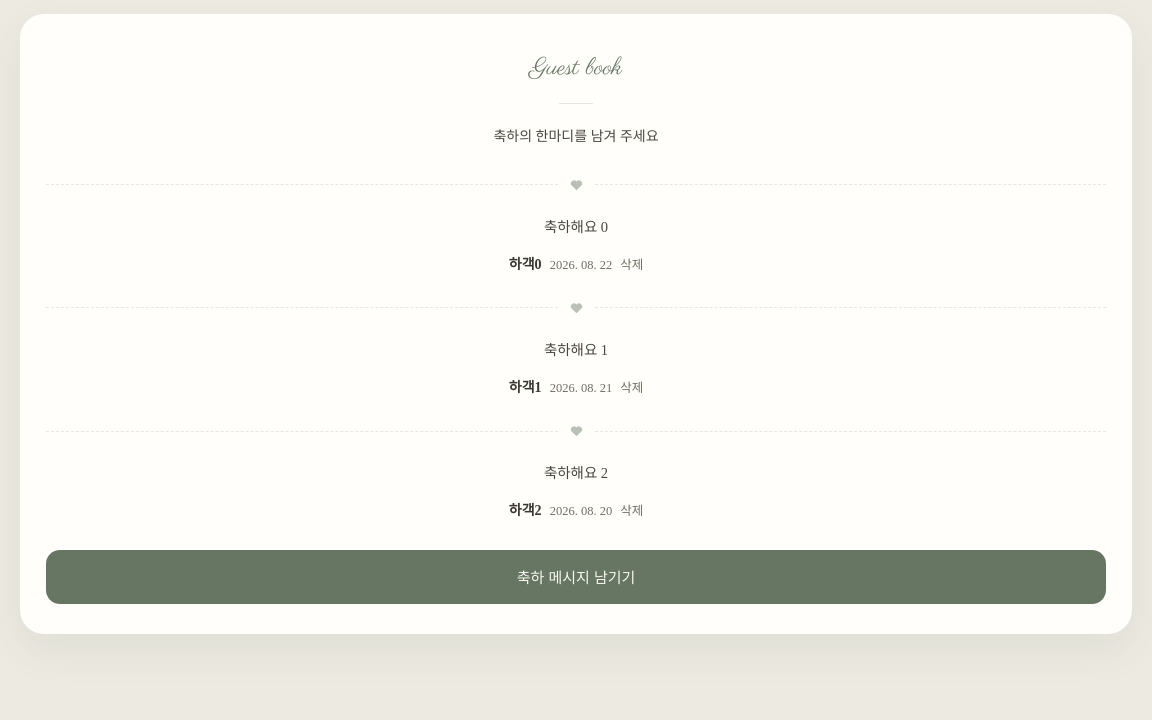
Scenario: Guestbook 삭제 › 비밀번호가 틀리면 팝업을 닫지 않고 알린다
Click the button with aria-label "하객1 님이 남긴 메시지 지우기" at coordinates (632, 387), box [612,365,651,409]
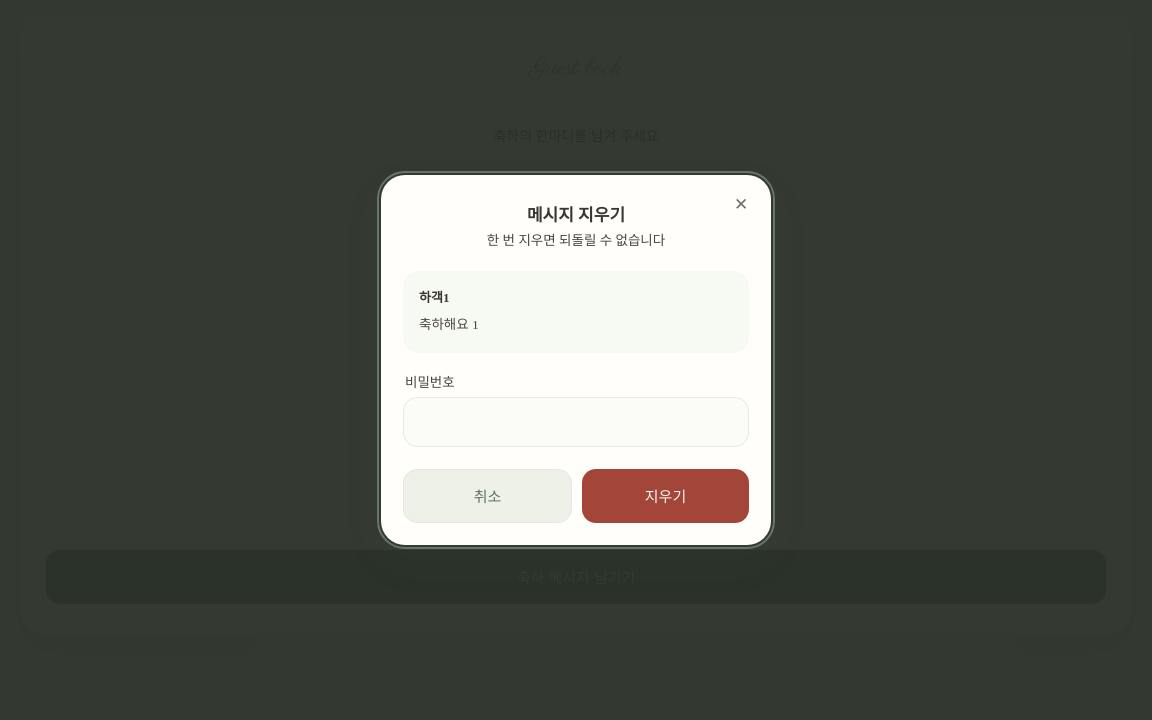
Type "9999" into the password field labelled "비밀번호" at coordinates (576, 422), box [403,397,749,447]
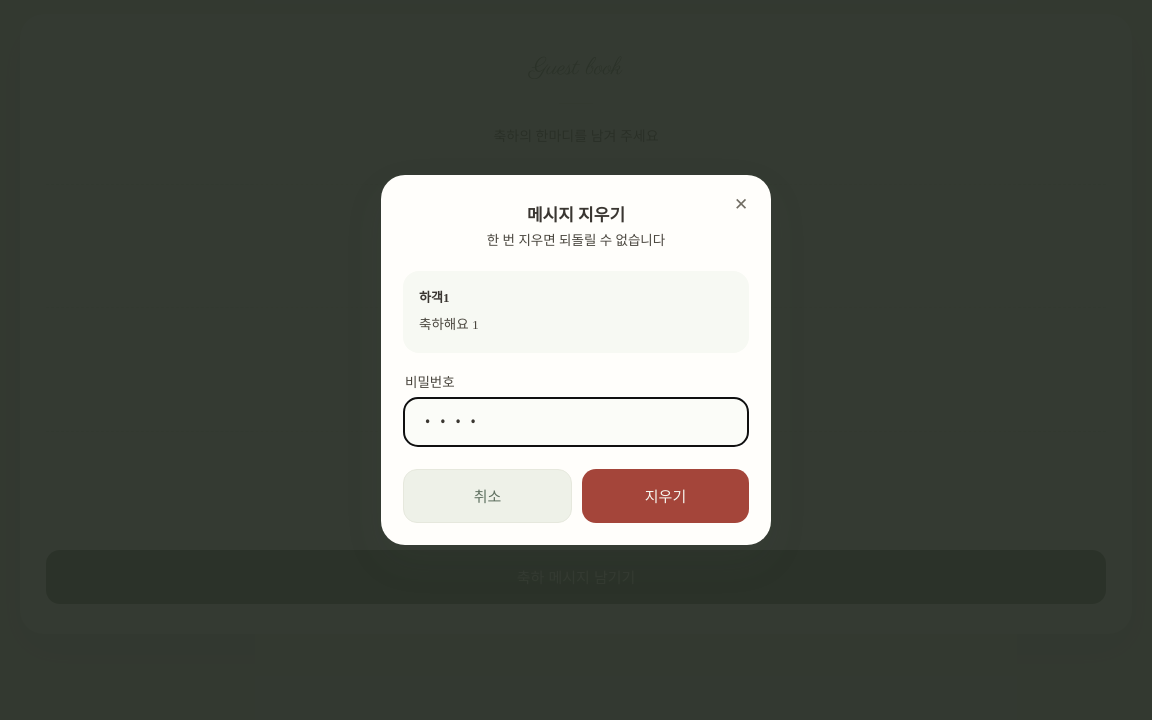
Click the button "지우기" at coordinates (666, 496), box [582,469,749,523]
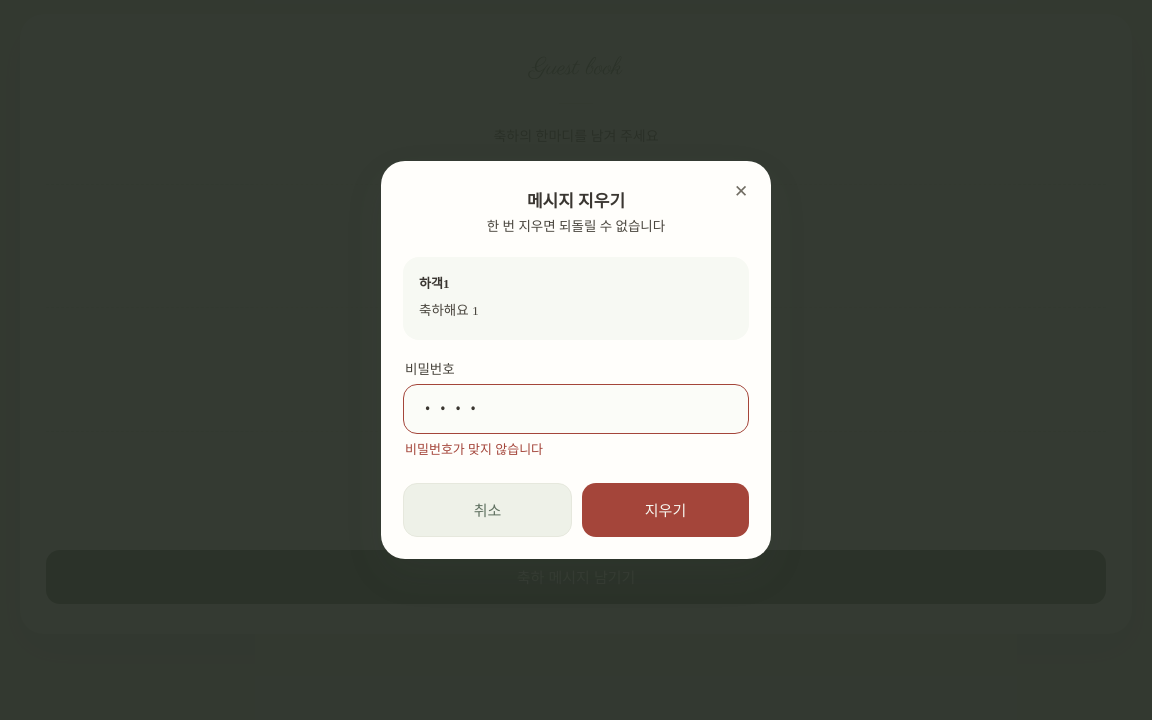
Now the dialog is shown, box [381,162,771,558]
Now the text "비밀번호가 맞지 않습니다" is shown, box [405,442,543,457]
